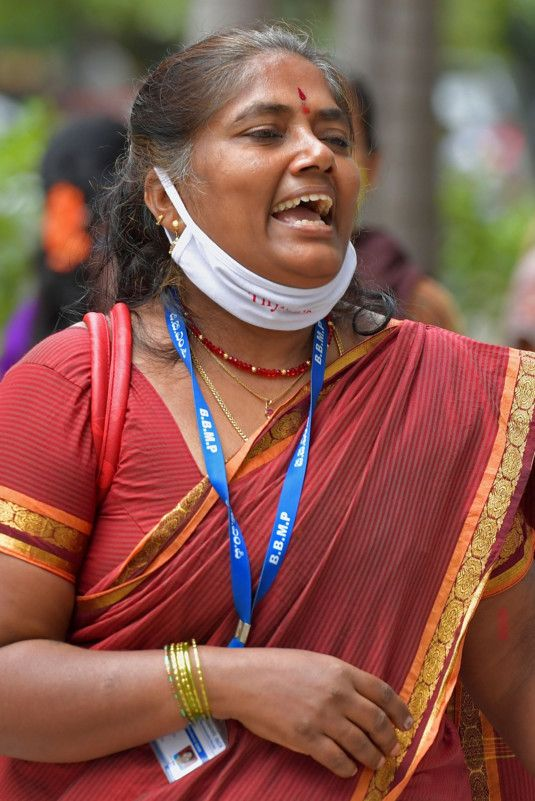without_mask: (214, 84, 363, 276)
